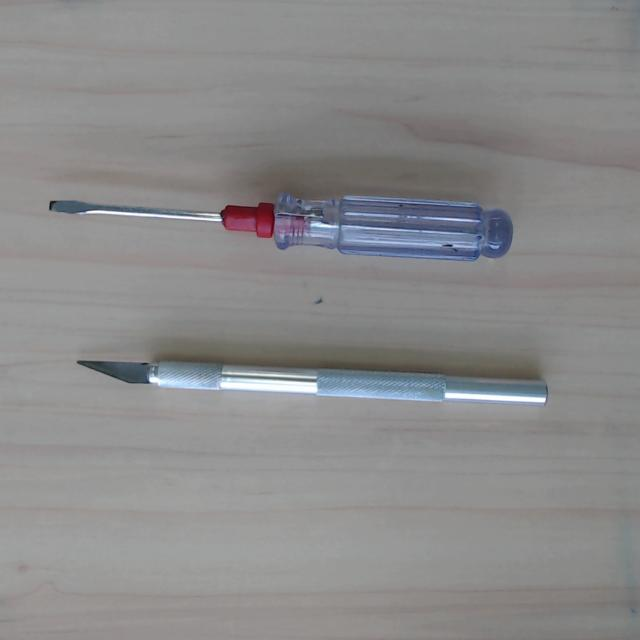Cutter-Kecil: (77, 356, 548, 407)
Obeng-Kecil: (48, 182, 514, 263)
